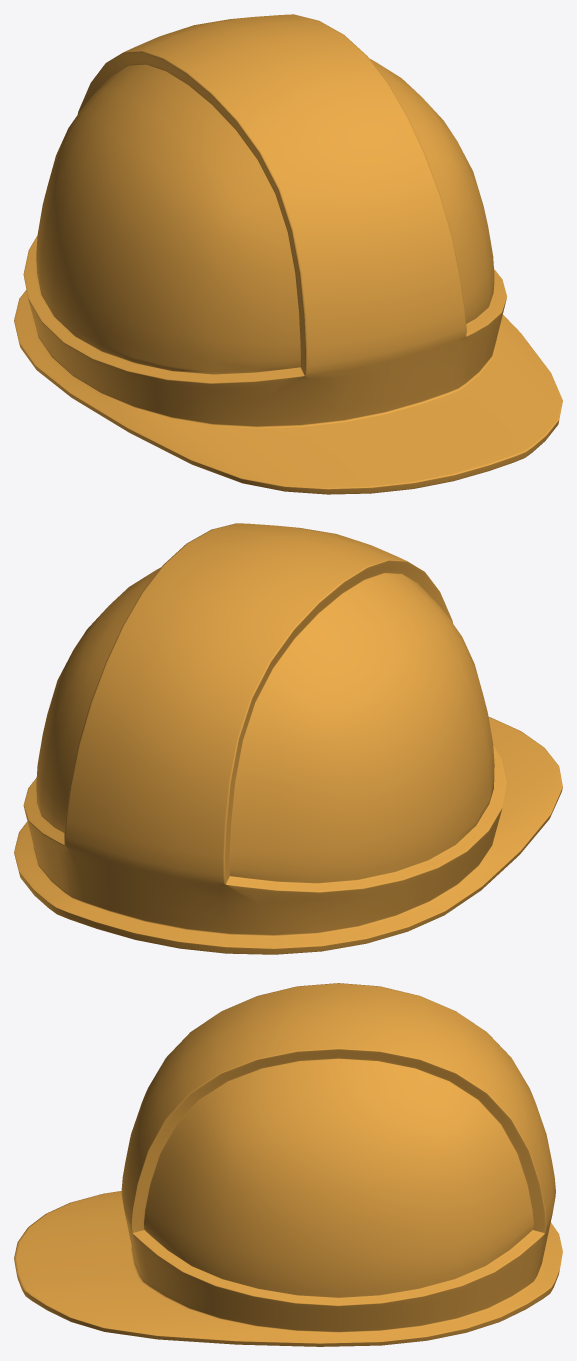
The model's file is construction-hat.fbx.
3 views of the same model, one above another, from view 1: azimuth 30°, elevation 25°; view 2: azimuth 150°, elevation 25°; view 3: azimuth 270°, elevation 25° (orthographic). The views are drawn at different scales.
Visible parts, largest first — view 1: Cube; view 2: Cube; view 3: Cube.
Boxes of the visible parts, box(x1,y1,x2,y2) form: Cube: box(14, 14, 562, 494); Cube: box(14, 523, 562, 954); Cube: box(14, 983, 562, 1346).
Bounding box in the file's own units: 2.36 × 1.76 × 1.22.
